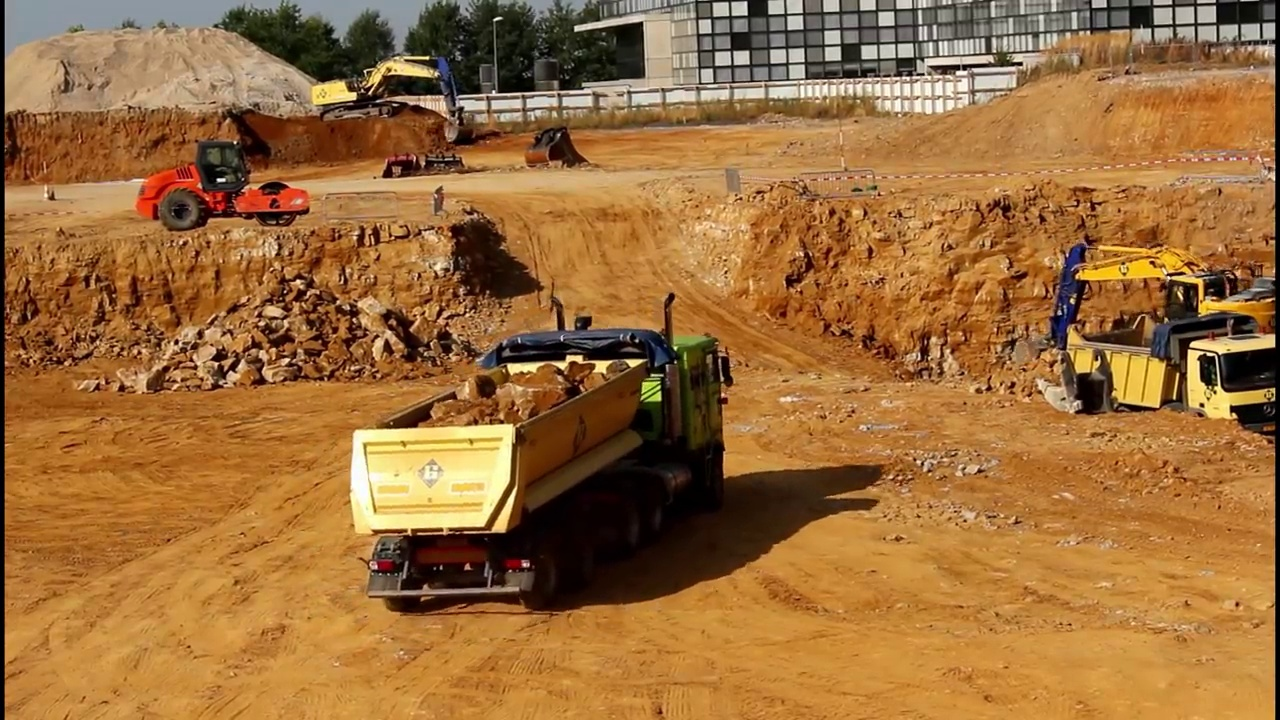compactor: (134, 141, 315, 230)
excavator: (1015, 238, 1280, 396), (309, 51, 477, 147)
truck: (346, 285, 740, 616), (1057, 313, 1280, 449)
